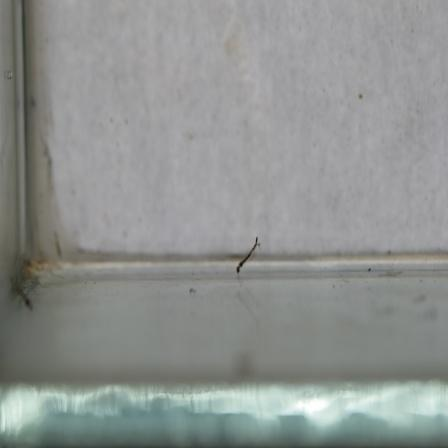Jentik-Nyamuk: (233, 233, 263, 277)
